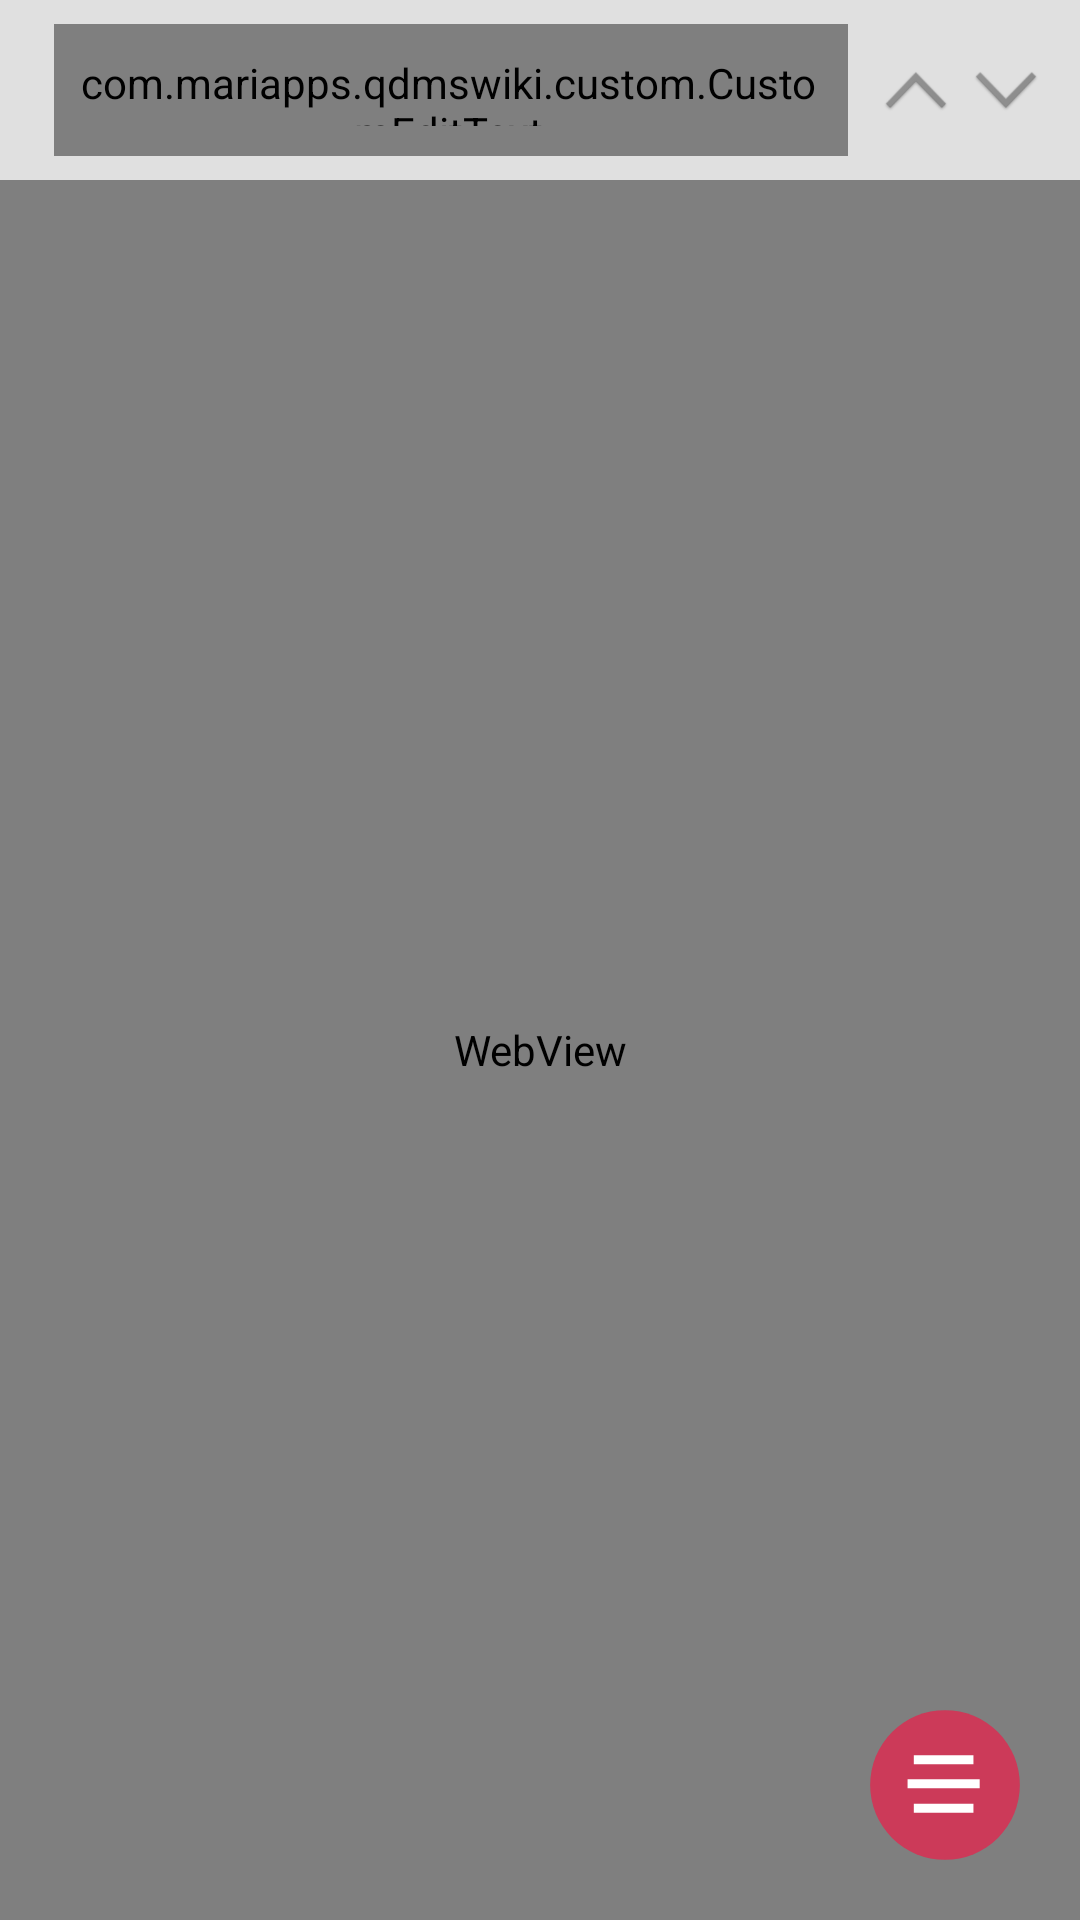

Screen size 1080px x 1920px. Icon name, then its center in pixels as point (x, y):
down arrow: point (1006, 90)
more menu: point (945, 1785)
up arrow: point (916, 90)
